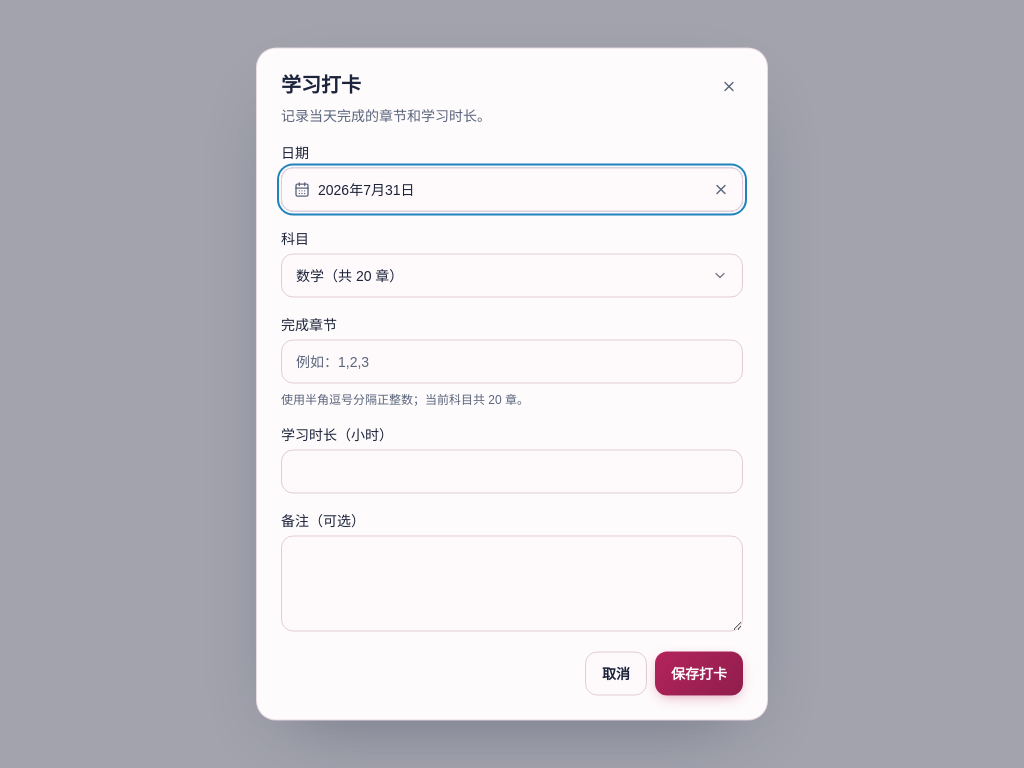
Test case: StudyCheckinDialog › rejects 空项
Click the dropdown named "科目" at (340, 276), box [281,254,743,298]
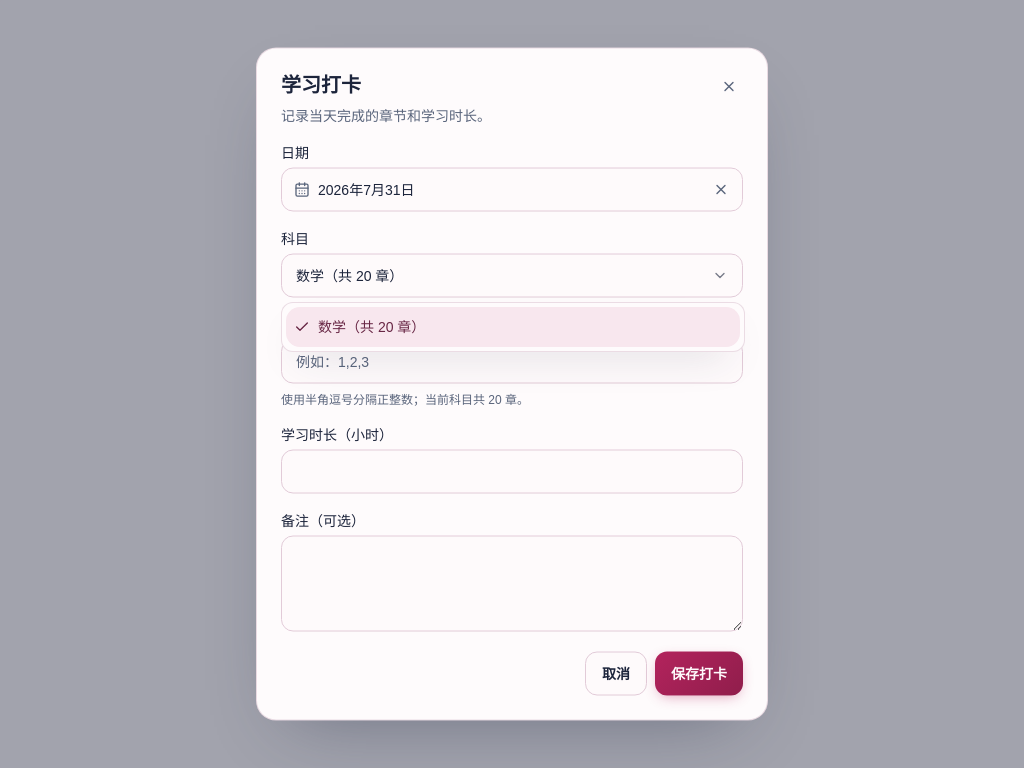
Click the option "数学（共 20 章）" at (362, 327), box [286,307,740,347]
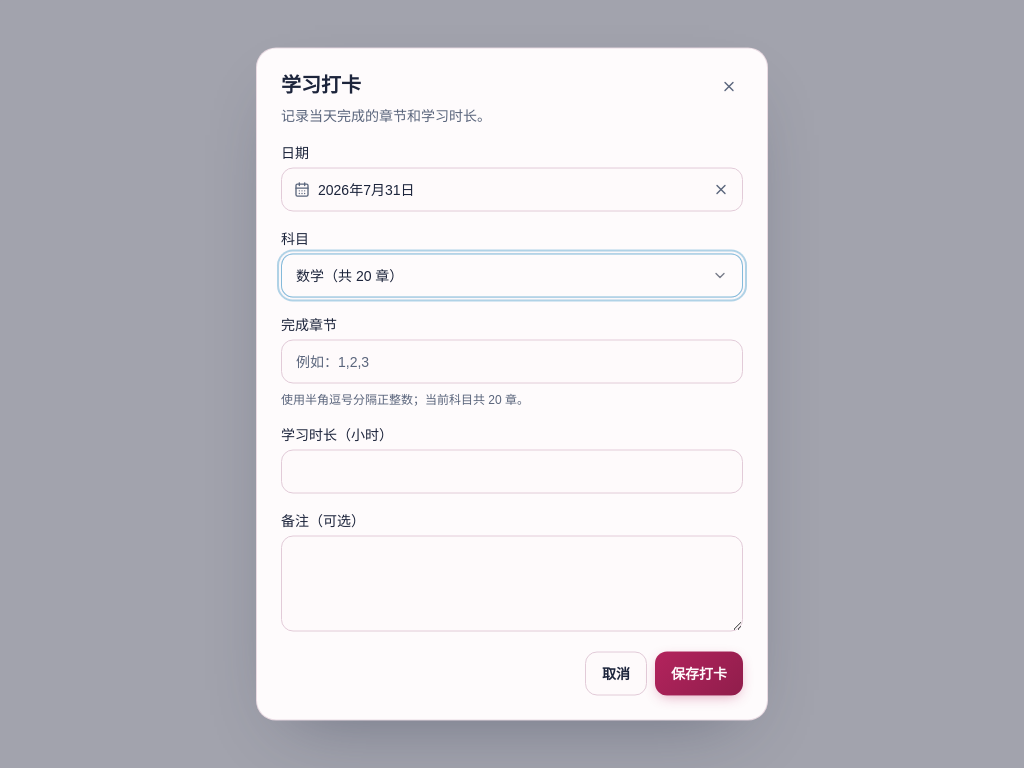
Type "1,,2" into the field labelled "完成章节" at (512, 362), box [281,340,743,384]
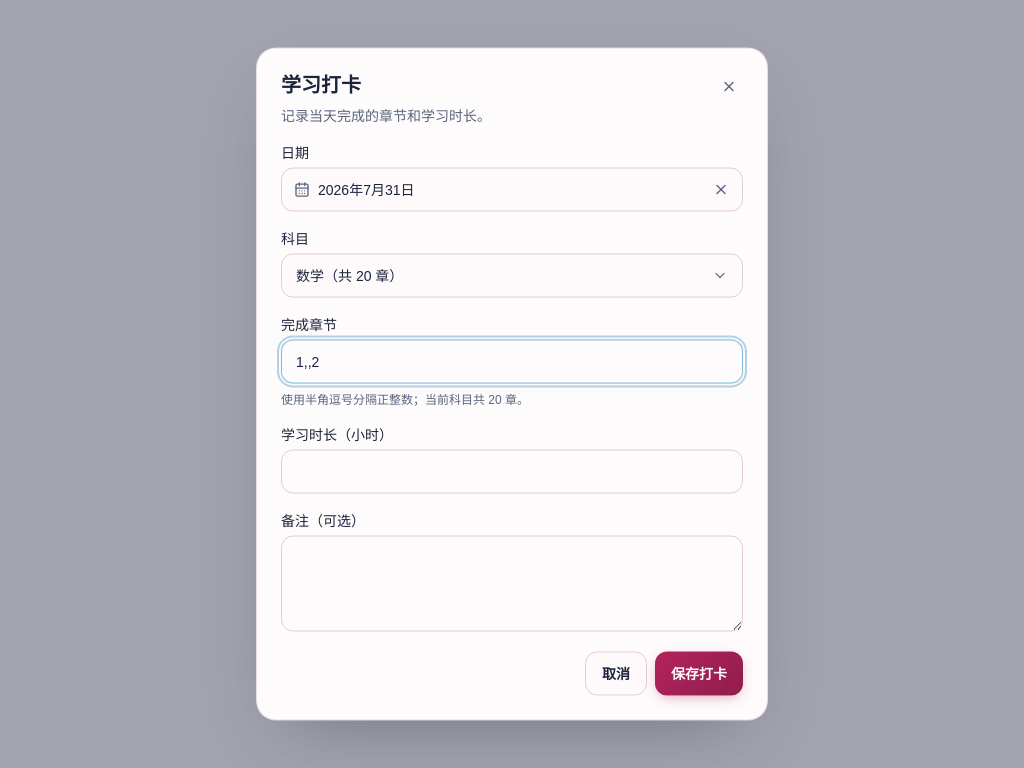
Type "1" into the number field labelled "学习时长（小时）" at (512, 472), box [281,450,743,494]
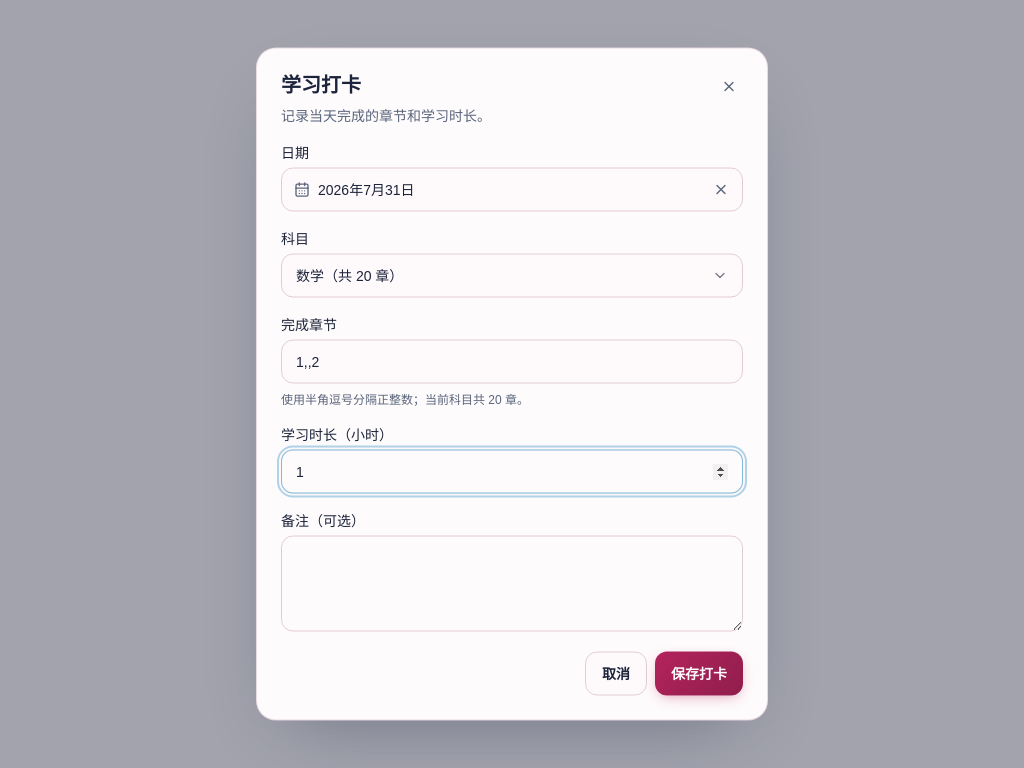
Click the button "保存打卡" at (699, 674), box [655,652,743,696]
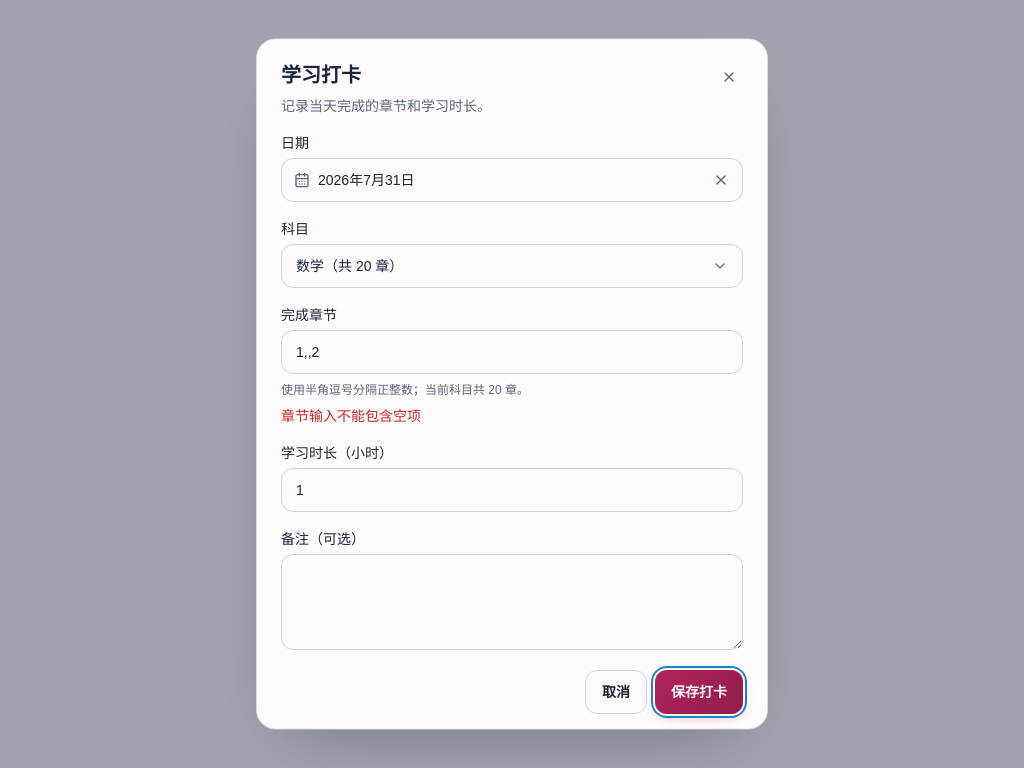
Now the text "章节输入不能包含空项" is shown, box [281,408,421,424]
